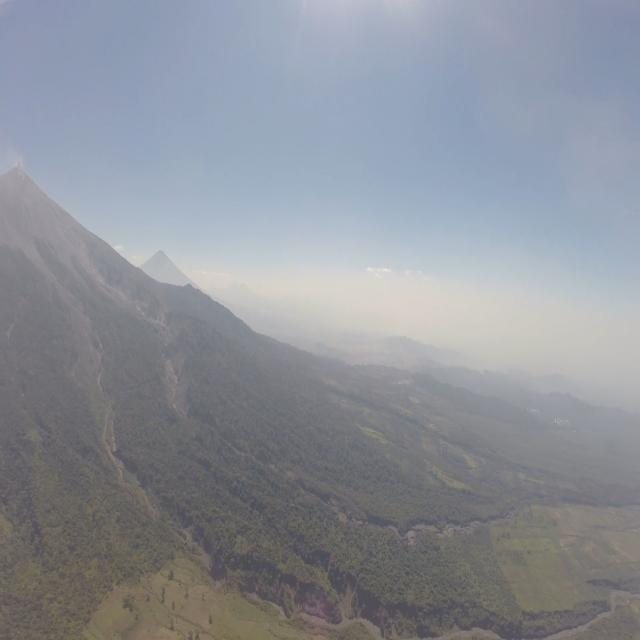Summit: (2, 164, 30, 188)
